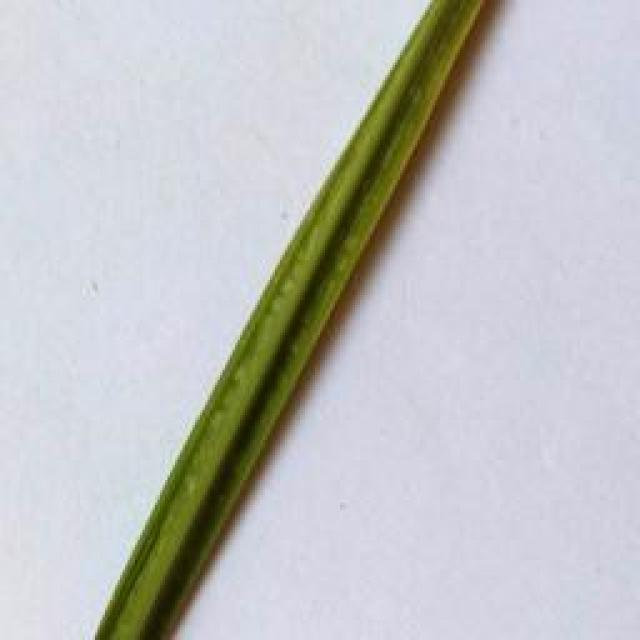Healthy-Plant: (94, 4, 483, 640)
